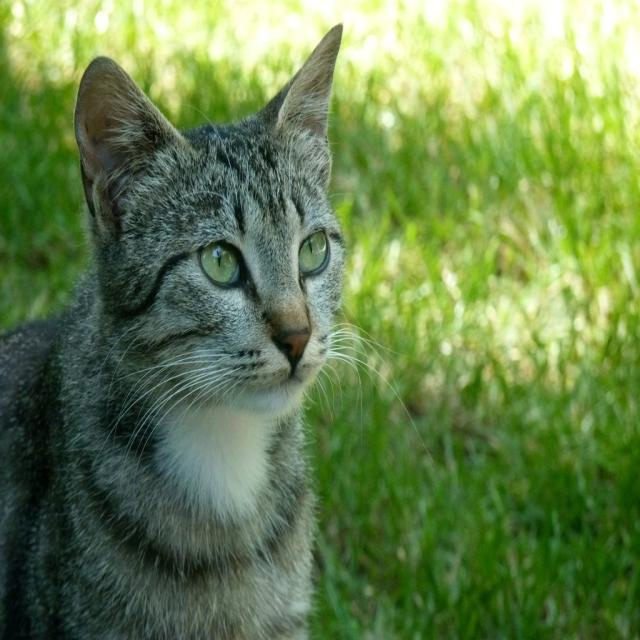Cat: (0, 22, 432, 638)
